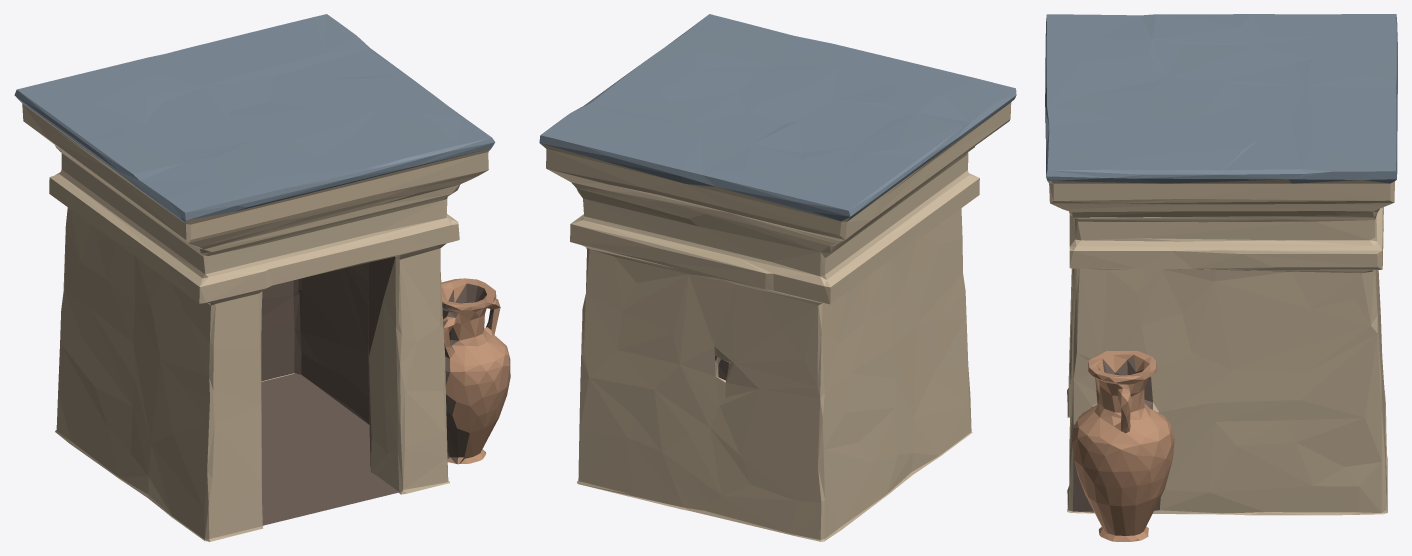
The picture shows the model from 3 angles, left to right: view 1: azimuth 30°, elevation 25°; view 2: azimuth 150°, elevation 25°; view 3: azimuth 270°, elevation 25°; orthographic projection. The views are drawn at different scales.
Parts seen in each view (by area): view 1: geometry_0; view 2: geometry_0; view 3: geometry_0.
Part boxes in pixels (x1,y1,x2,y2): geometry_0: [14, 14, 510, 541]; geometry_0: [539, 14, 1016, 541]; geometry_0: [1045, 14, 1397, 541].
Bounding box in the file's own units: 0.9172 × 0.8475 × 0.7544.
